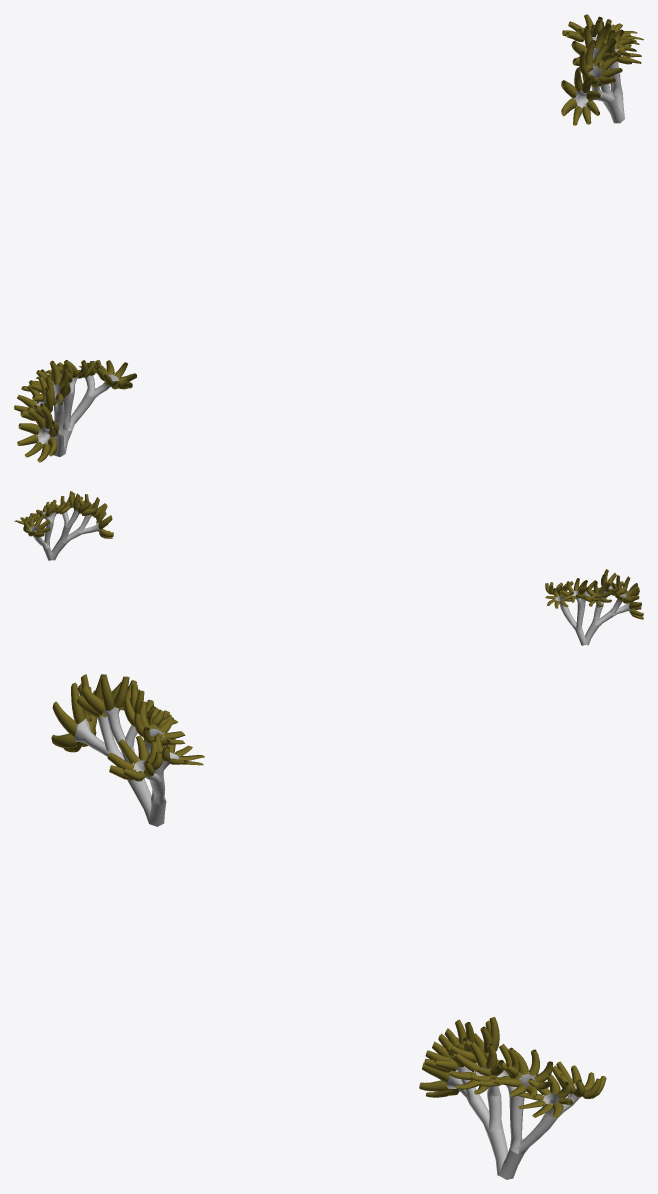
The model's file is coral2.fbx.
The picture shows the model from 3 angles, top to bottom: view 1: azimuth 30°, elevation 25°; view 2: azimuth 150°, elevation 25°; view 3: azimuth 270°, elevation 25°; orthographic projection. The views are drawn at different scales.
Visible parts, largest first — view 1: ss:huanghua3 (×2); view 2: ss:huanghua3 (×2); view 3: ss:huanghua3 (×2).
Boxes of the visible parts, x1,y1,x2,y2 form: ss:huanghua3 (×2): (14, 14, 643, 462); ss:huanghua3 (×2): (14, 491, 643, 645); ss:huanghua3 (×2): (51, 674, 606, 1179).
Bounding box in the file's own units: 32.96 × 6.75 × 15.45.
